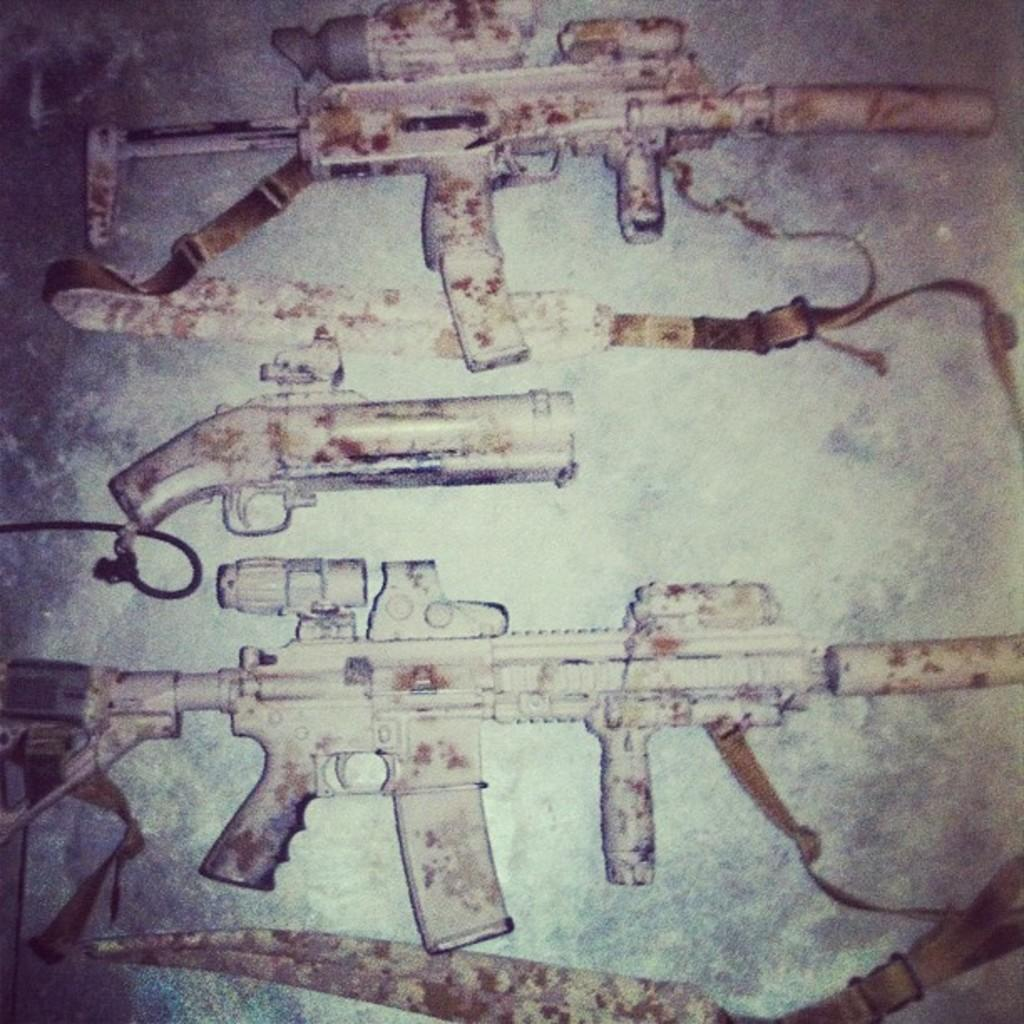Handgun: (109, 326, 581, 539)
